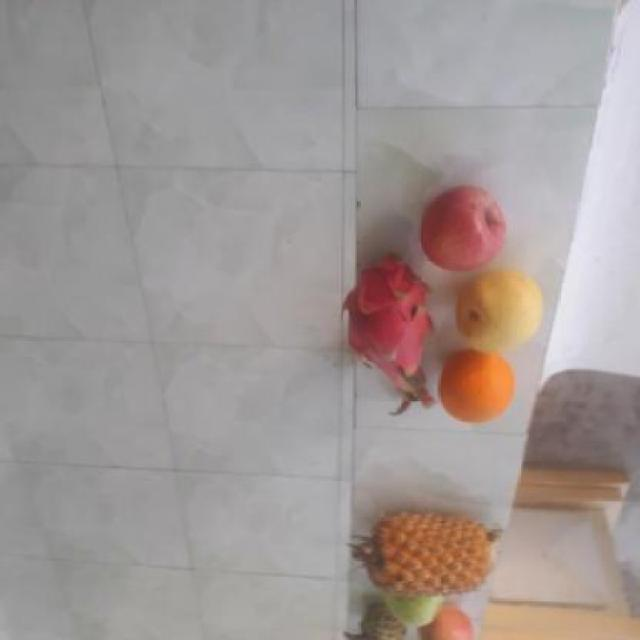apple: (418, 185, 512, 274)
dragon fruit: (340, 256, 451, 389)
oren: (438, 351, 517, 424)
pear: (451, 270, 545, 352)
pineapple: (368, 507, 500, 595)
